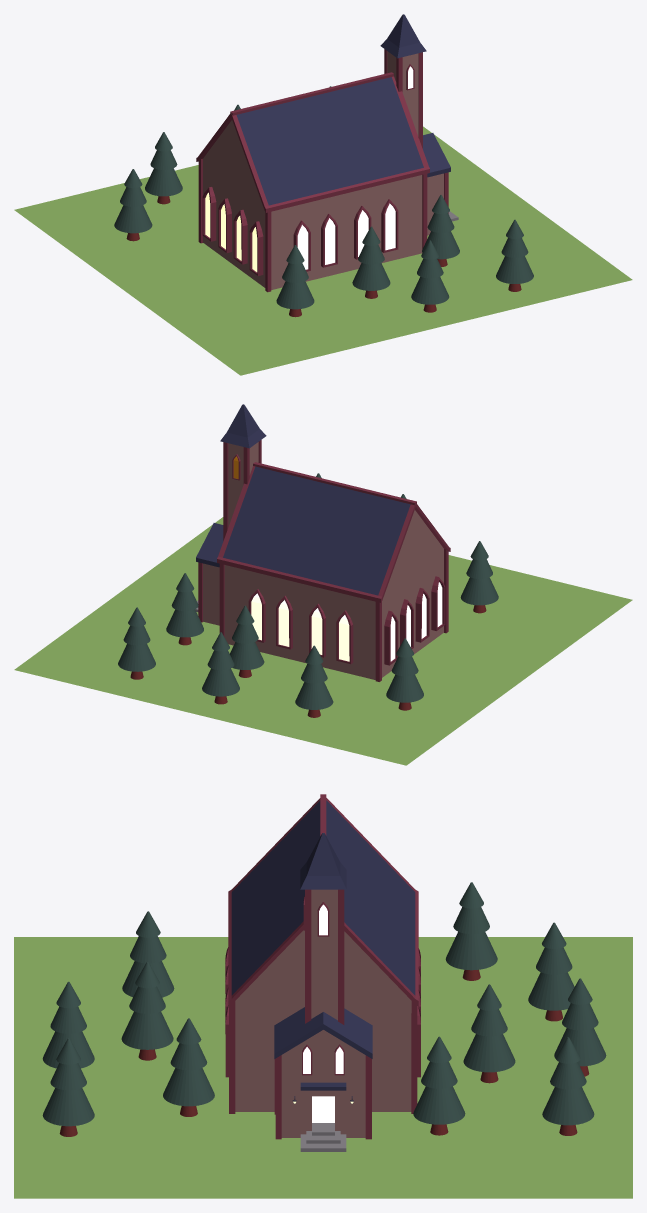
File: church.gltf
3 renders of one model, top to bottom at view 1: azimuth 30°, elevation 25°; view 2: azimuth 150°, elevation 25°; view 3: azimuth 270°, elevation 25°, orthographic. The views are drawn at different scales.
Parts seen in each view (by area): view 1: Church, windows; view 2: Church, windows; view 3: Church, windows.
Boxes of the visible parts, box(x1,y1,x2,y2) form: Church: box(14, 14, 632, 375); windows: box(205, 66, 413, 271); Church: box(14, 404, 632, 765); windows: box(251, 582, 442, 661); Church: box(14, 794, 632, 1198); windows: box(293, 904, 353, 1122).
Size of the model in its own units: 56.44 by 29.14 by 56.44.
Materials: 2 (1 with a texture image).
